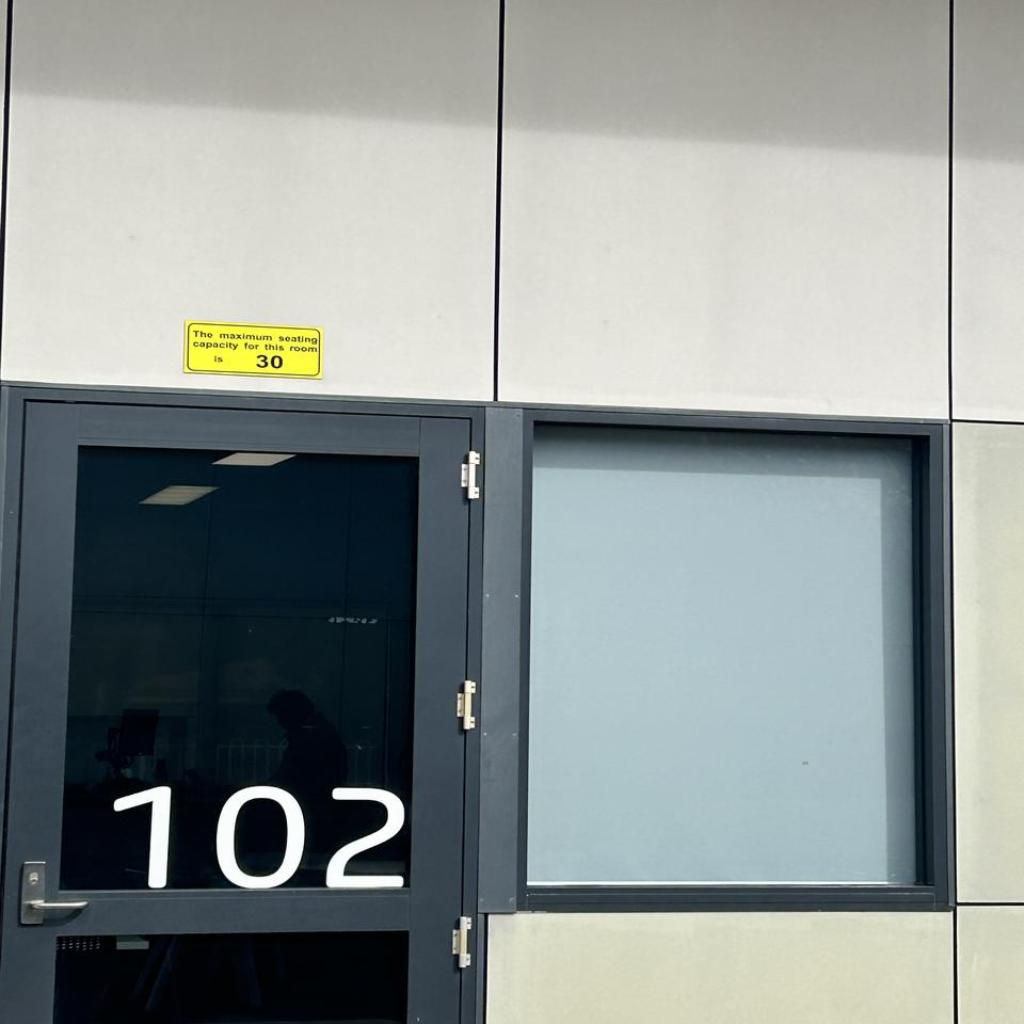BuildingCodes: (112, 782, 408, 892)
